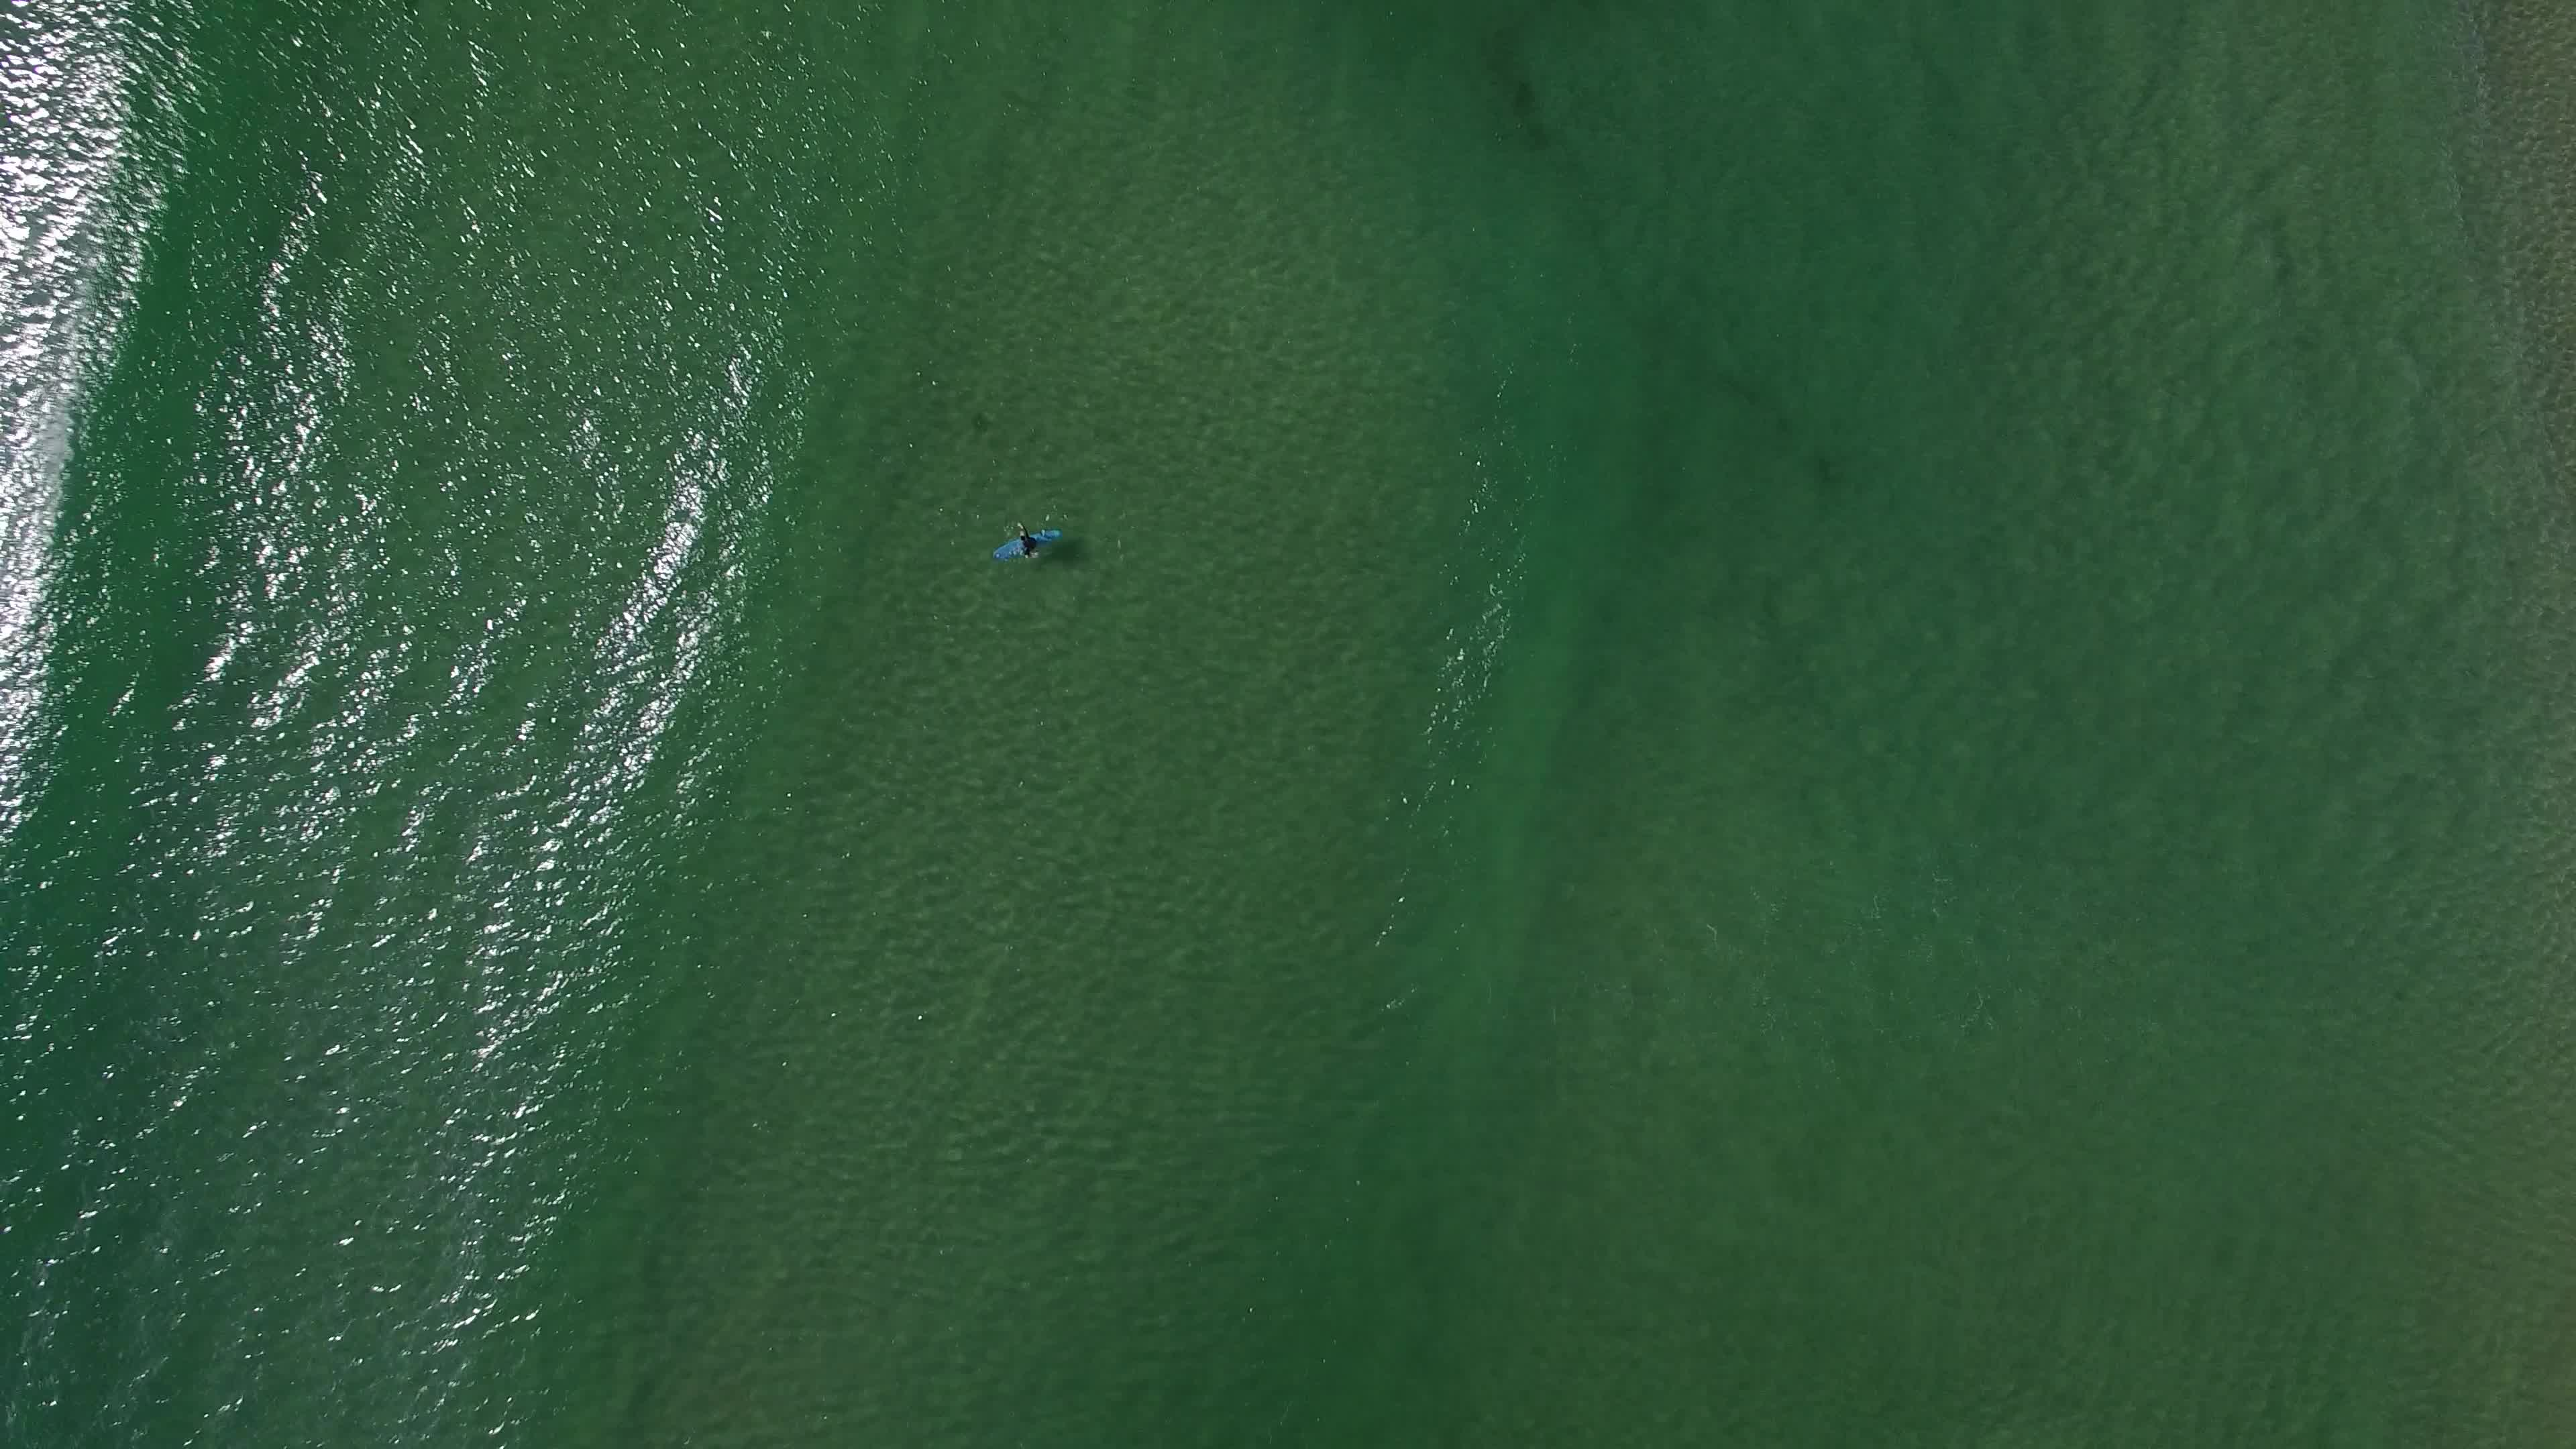surfer: (982, 511, 1069, 571)
